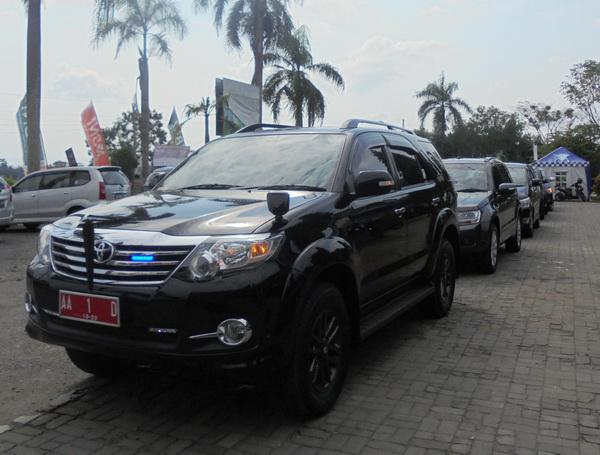plate: (58, 289, 118, 327)
